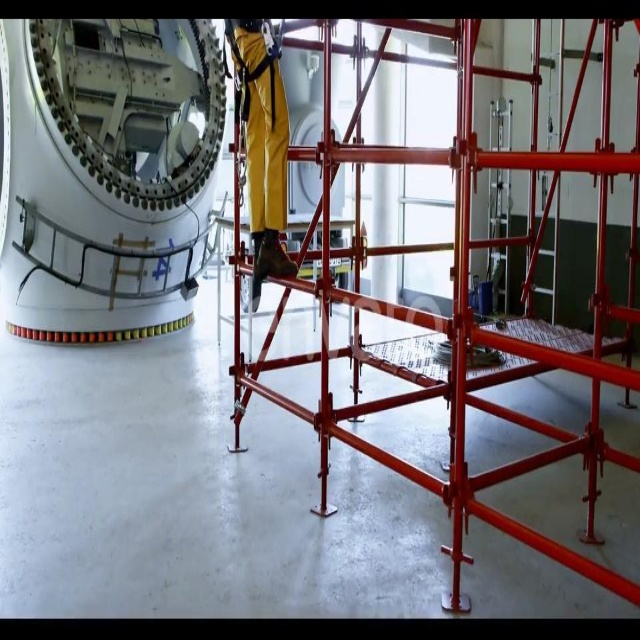Arnes_seguridad: (215, 8, 287, 138)
